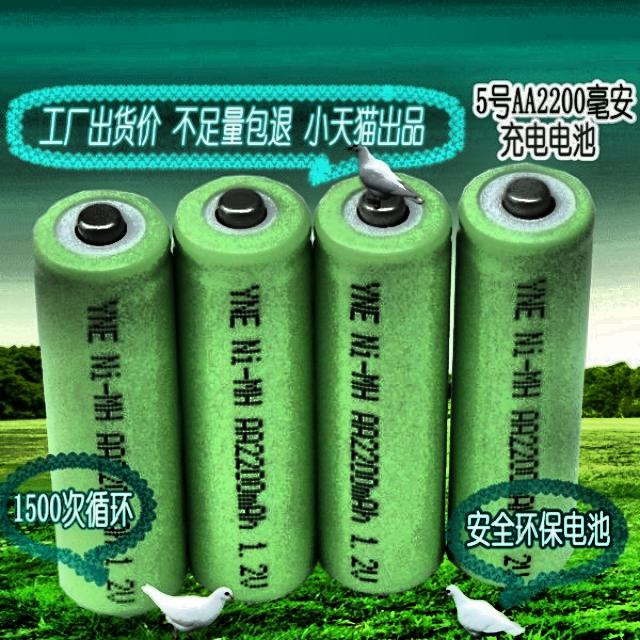Non-Valuable Waste - Batteries: (34, 190, 186, 616), (314, 146, 451, 594), (448, 164, 594, 581), (174, 175, 315, 601)
